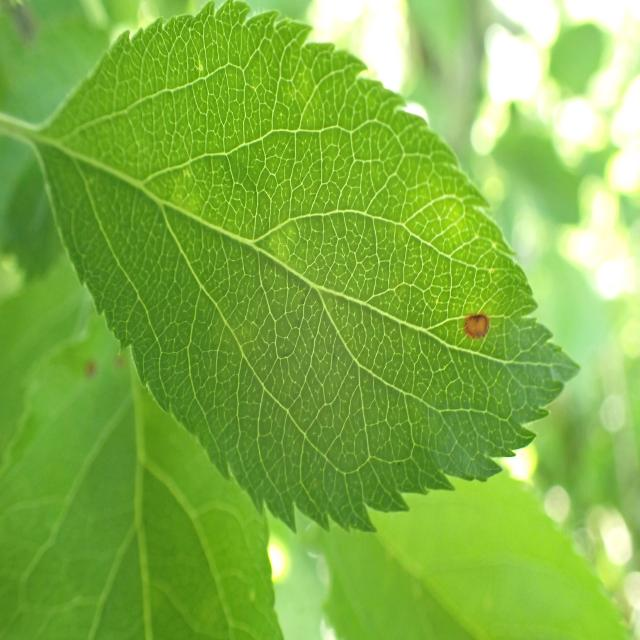Black Rot: (434, 296, 501, 353)
